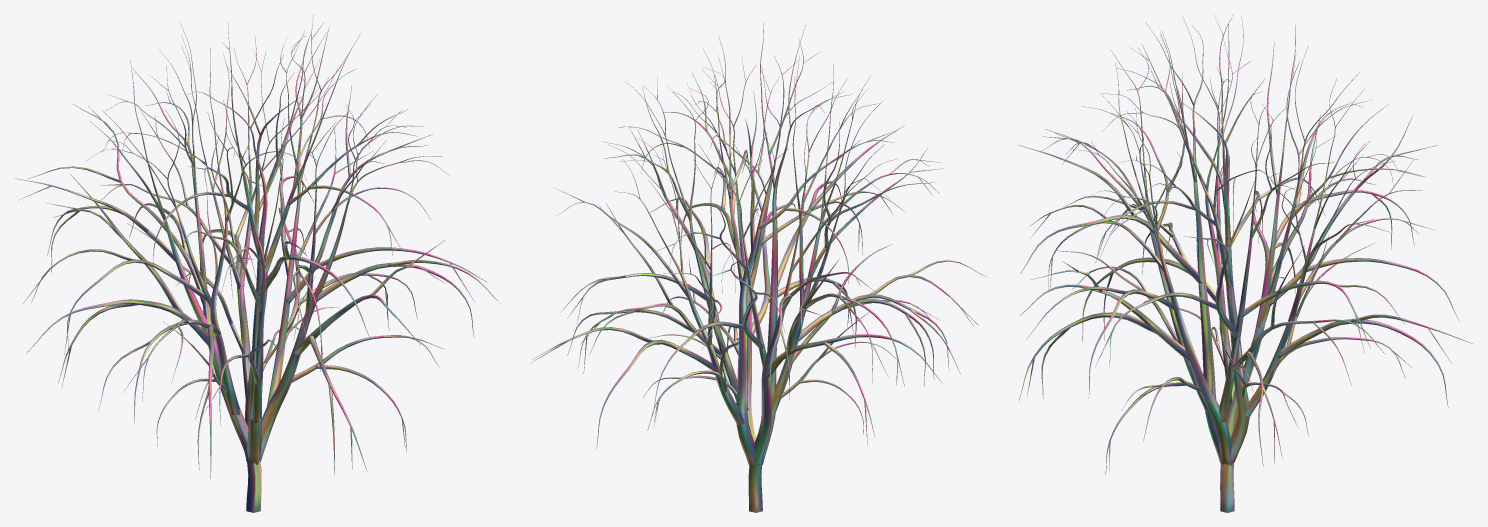
File: snowTree1.glb
The picture shows the model from 3 angles, left to right: view 1: azimuth 30°, elevation 25°; view 2: azimuth 150°, elevation 25°; view 3: azimuth 270°, elevation 25°; orthographic projection. The views are drawn at different scales.
Parts seen in each view (by area): view 1: tree; view 2: tree; view 3: tree.
Boxes of the visible parts, left/top/right/bottom form: tree: left=14, top=14, right=501, bottom=512; tree: left=530, top=22, right=986, bottom=512; tree: left=1018, top=14, right=1472, bottom=512.
Bounding box in the file's own units: 5.41 × 6.48 × 5.47.
1 material, 1 textured.
